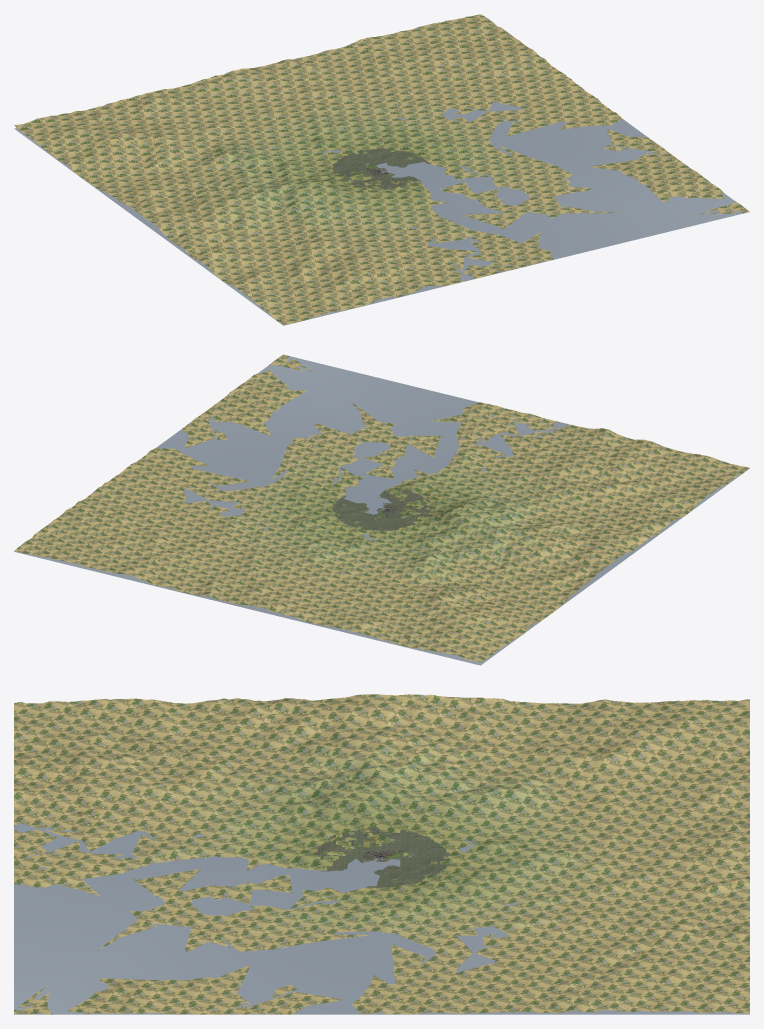
File: macpoint_backdrop_part1.glb
The picture shows the model from 3 angles, top to bottom: view 1: azimuth 30°, elevation 25°; view 2: azimuth 150°, elevation 25°; view 3: azimuth 270°, elevation 25°; orthographic projection. The views are drawn at different scales.
Visible parts, largest first — view 1: bg_far_terrain, bg_far_water, bg_far_suburb; view 2: bg_far_terrain, bg_far_water, bg_far_suburb; view 3: bg_far_terrain, bg_far_water, bg_far_suburb.
Part boxes in pixels (box(x1,y1,x2,y2)): bg_far_terrain: box(14, 14, 749, 325); bg_far_water: box(14, 102, 748, 325); bg_far_suburb: box(332, 148, 429, 189); bg_far_terrain: box(14, 354, 749, 662); bg_far_water: box(14, 356, 749, 665); bg_far_suburb: box(332, 489, 431, 531); bg_far_terrain: box(14, 694, 749, 1014); bg_far_water: box(14, 706, 749, 1014); bg_far_suburb: box(314, 827, 449, 887).
Bounding box in the file's own units: 60009 × 1271 × 60008.
29 materials, 20 textured.
